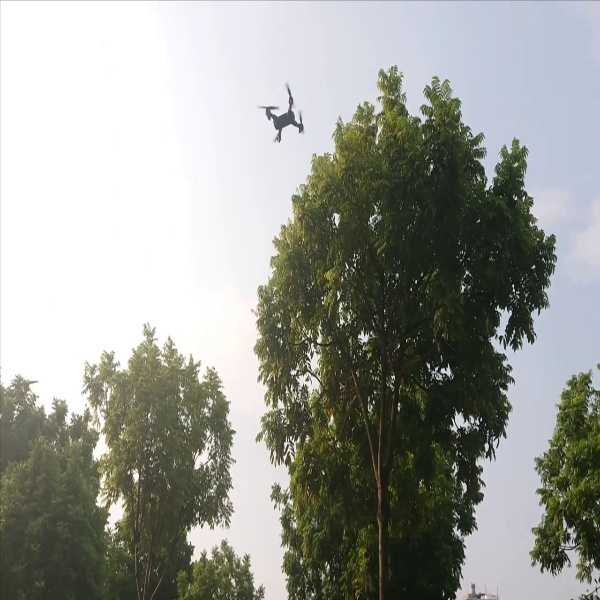drone: (256, 82, 312, 143)
